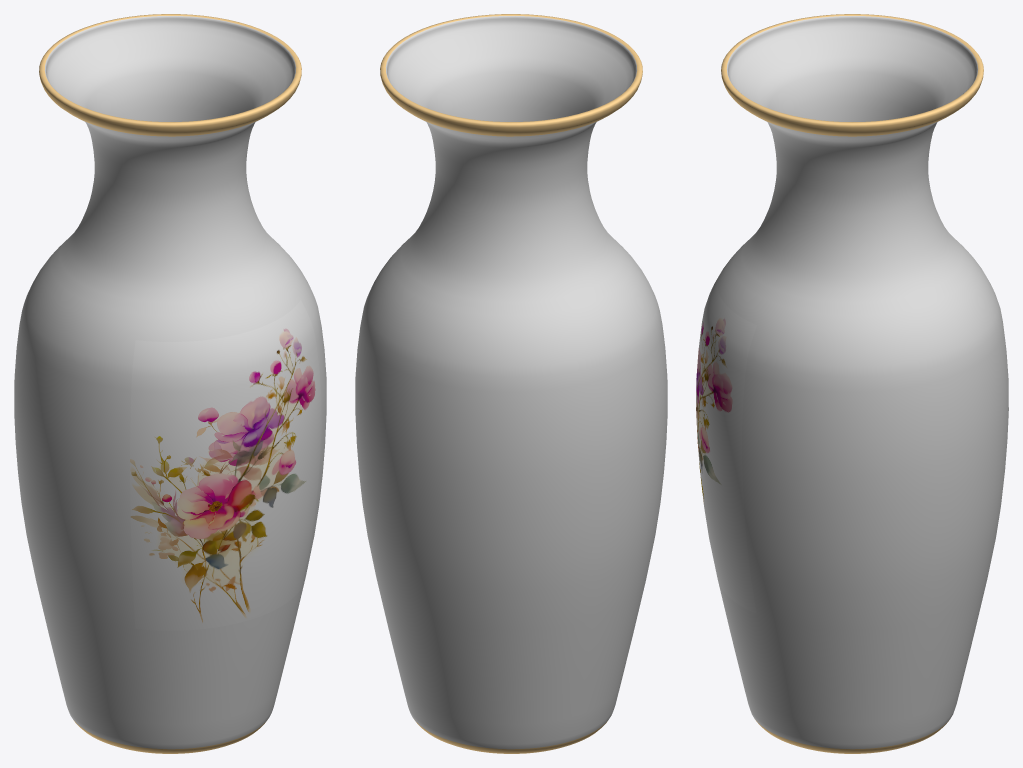
File: vase-1546.glb
3 views of the same model, side by side, from view 1: azimuth 30°, elevation 25°; view 2: azimuth 150°, elevation 25°; view 3: azimuth 270°, elevation 25° (orthographic).
Visible parts, largest first — view 1: Circle; view 2: Circle; view 3: Circle.
Boxes of the visible parts, left/top/right/bottom form: Circle: left=14, top=14, right=326, bottom=753; Circle: left=355, top=14, right=667, bottom=753; Circle: left=696, top=14, right=1008, bottom=753.
Bounding box in the file's own units: 1.31 × 3 × 1.31.
Materials: 3 (1 with a texture image).
